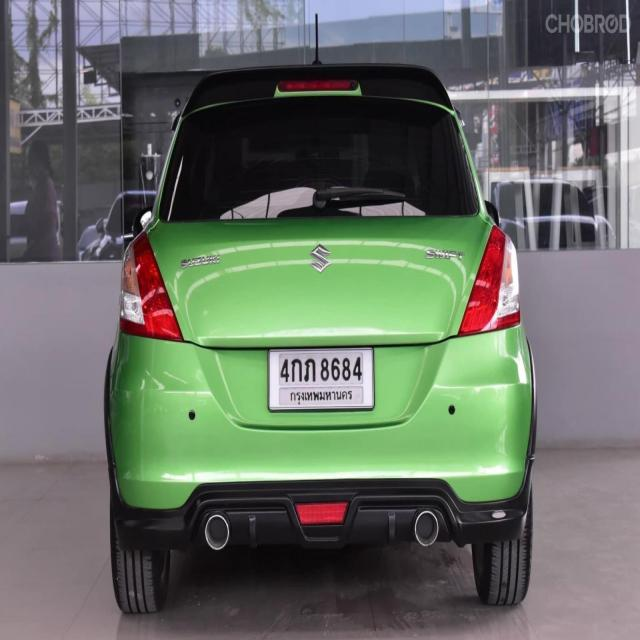license_plate: (266, 345, 376, 414)
